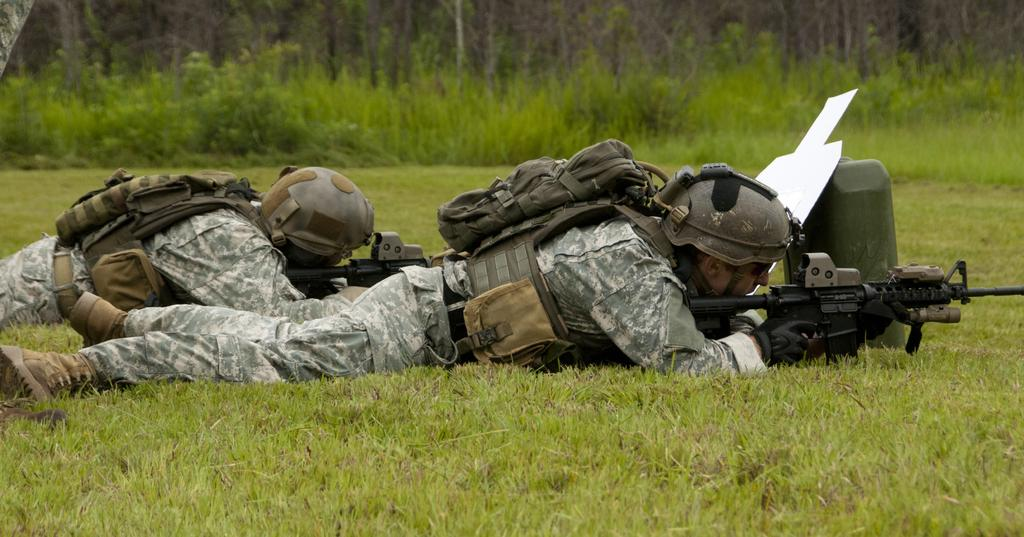Rifle: (682, 251, 1023, 366), (283, 231, 430, 302)
